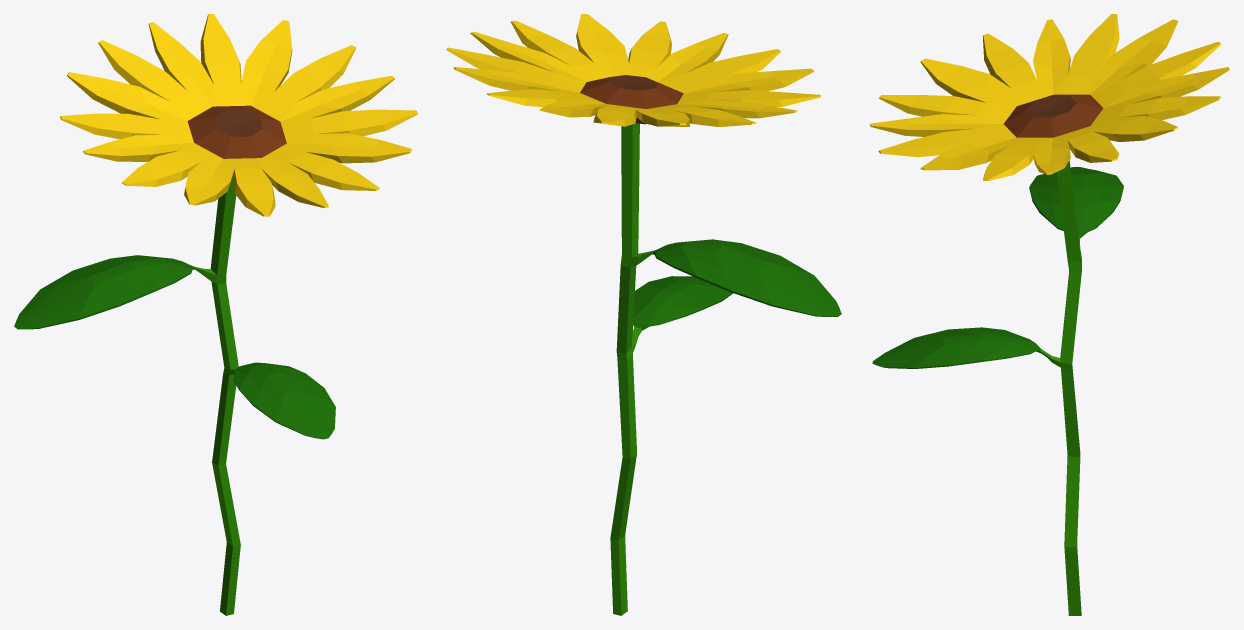
The model's file is Sonnenblume.fbx super realistisch 3d xxxL(utz).fbx.fbx.
3 views of the same model, side by side, from view 1: azimuth 30°, elevation 25°; view 2: azimuth 150°, elevation 25°; view 3: azimuth 270°, elevation 25° (orthographic). The views are drawn at different scales.
Visible parts, largest first — view 1: Blätter Gelb, Blätter Grün, Stil, Kern, Kern Kern; view 2: Blätter Gelb, Blätter Grün, Stil, Kern, Kern Kern; view 3: Blätter Gelb, Blätter Grün, Stil, Kern, Kern Kern.
Boxes of the visible parts, left/top/right/bottom form: Blätter Gelb: left=60, top=14, right=417, bottom=216; Blätter Grün: left=14, top=255, right=335, bottom=439; Stil: left=192, top=177, right=240, bottom=615; Kern: left=187, top=105, right=286, bottom=158; Kern Kern: left=214, top=110, right=261, bottom=136; Blätter Gelb: left=446, top=14, right=820, bottom=126; Blätter Grün: left=633, top=239, right=841, bottom=330; Stil: left=610, top=123, right=655, bottom=615; Kern: left=580, top=77, right=683, bottom=124; Kern Kern: left=607, top=75, right=657, bottom=90; Blätter Gelb: left=870, top=14, right=1229, bottom=180; Blätter Grün: left=872, top=167, right=1123, bottom=368; Stil: left=1040, top=161, right=1081, bottom=615; Kern: left=1004, top=94, right=1103, bottom=137; Kern Kern: left=1026, top=96, right=1076, bottom=117.
Size of the model in its own units: 6390 by 8950 by 5344.
